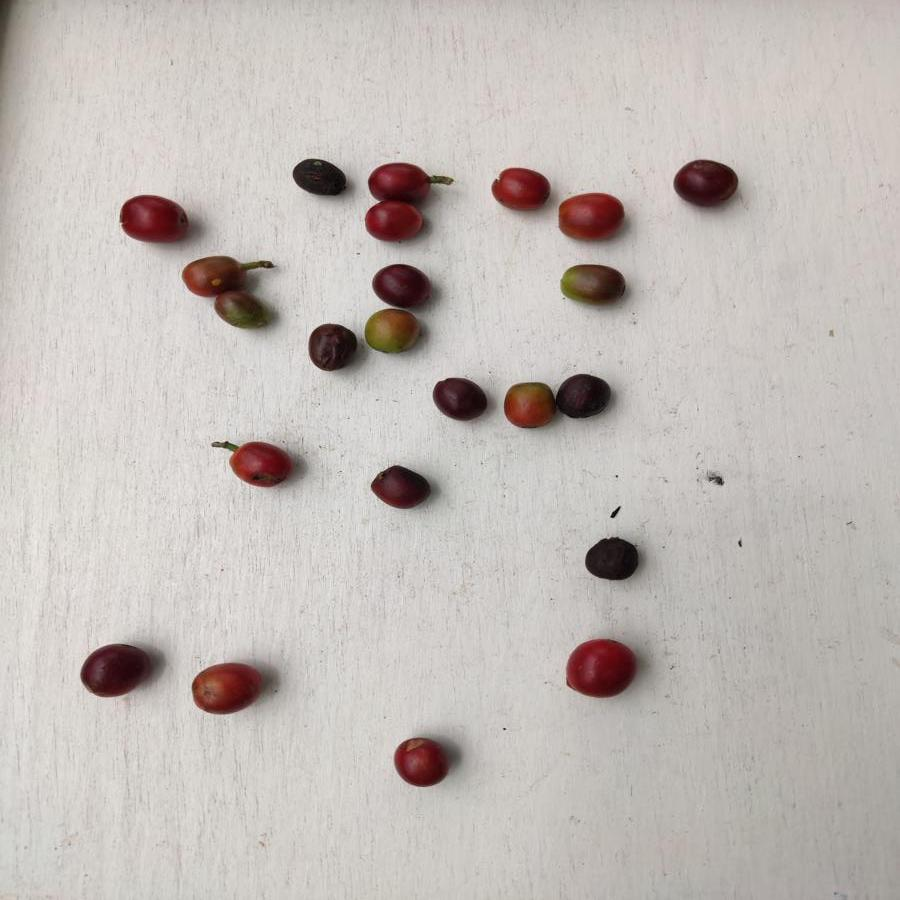Maduro: (563, 637, 637, 700), (189, 661, 267, 716), (118, 194, 195, 244), (558, 193, 627, 239), (229, 441, 292, 490), (393, 735, 449, 788), (366, 161, 434, 203), (365, 196, 425, 241), (492, 166, 552, 210)
Pinton: (557, 264, 625, 307), (180, 253, 246, 297), (363, 307, 422, 351), (213, 288, 269, 334), (503, 382, 554, 427)
Sobremaduro: (78, 642, 152, 698), (671, 157, 739, 205), (373, 262, 436, 307), (367, 465, 431, 509), (431, 374, 488, 422), (583, 534, 639, 580), (554, 373, 611, 418), (308, 322, 358, 371), (290, 156, 348, 197)
